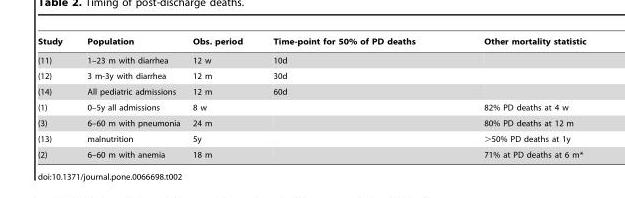table: (37, 36, 585, 158)
table column: (257, 36, 449, 158), (449, 36, 585, 158), (74, 36, 185, 158), (185, 36, 257, 158), (37, 36, 74, 158)
table column header: (37, 36, 585, 50)
table row: (37, 50, 585, 67), (37, 67, 585, 83), (37, 83, 585, 99), (37, 99, 585, 115), (37, 130, 585, 146), (37, 115, 585, 130), (37, 36, 585, 50), (37, 146, 585, 158)
